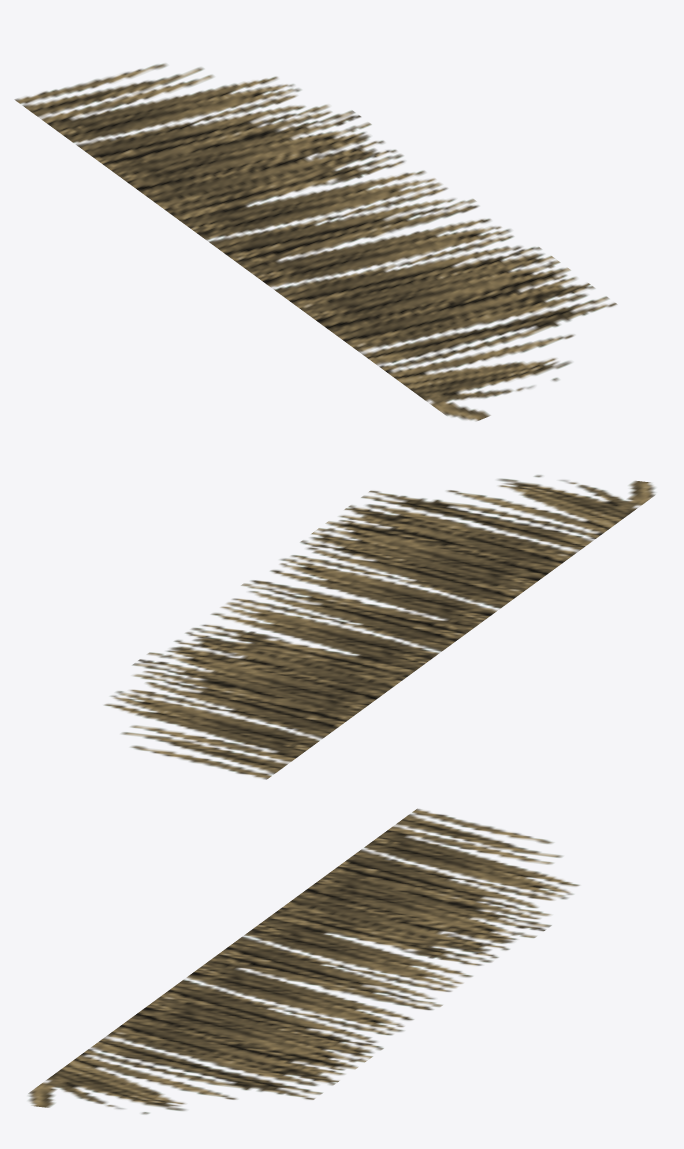
3 renders of one model, top to bottom at view 1: azimuth 30°, elevation 25°; view 2: azimuth 150°, elevation 25°; view 3: azimuth 330°, elevation 25°, orthographic. The views are drawn at different scales.
Parts seen in each view (by area): view 1: tail.png__; view 2: tail.png__; view 3: tail.png__.
Boxes of the visible parts, x1,y1,x2,y2 form: tail.png__: (14, 63, 617, 421); tail.png__: (104, 475, 655, 779); tail.png__: (28, 808, 579, 1114).
Size of the model in its own units: 0.5662 by 0.00273 by 1.95.
1 material, 1 textured.
